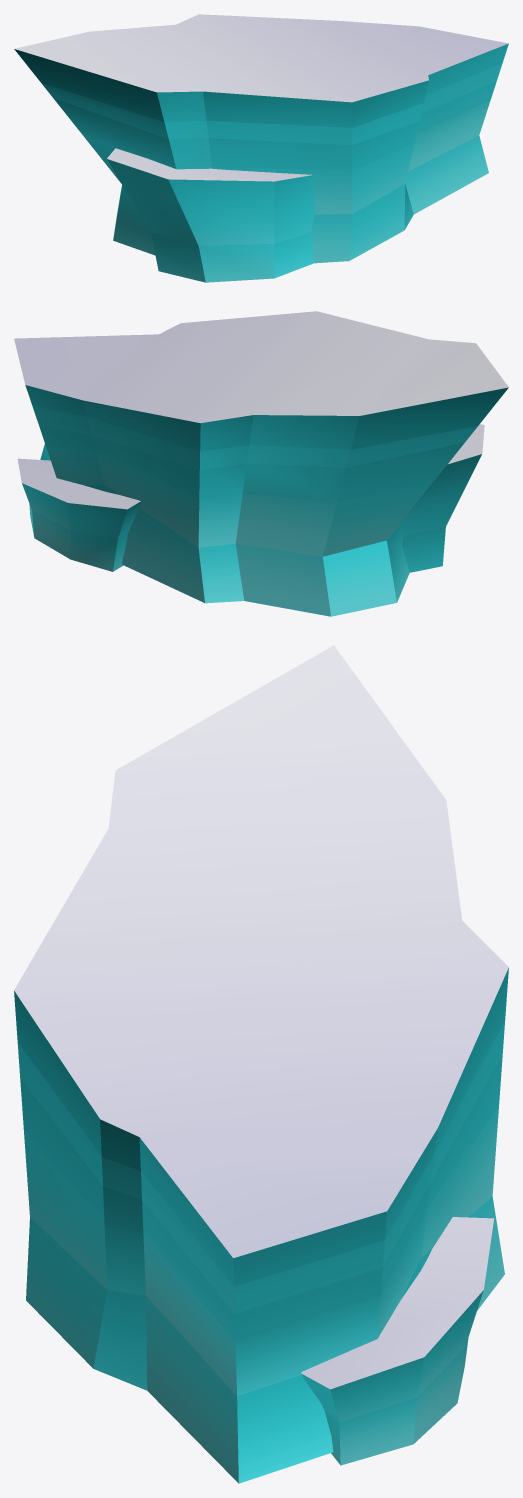
The model's file is arctic-big-cliff.obj.
The picture shows the model from 3 angles, top to bottom: view 1: azimuth 30°, elevation 25°; view 2: azimuth 150°, elevation 25°; view 3: azimuth 270°, elevation 25°; orthographic projection. The views are drawn at different scales.
Visible parts, largest first — view 1: arctic-big-cliff; view 2: arctic-big-cliff; view 3: arctic-big-cliff.
Boxes of the visible parts, box(x1,y1,x2,y2) form: arctic-big-cliff: box(14, 14, 508, 282); arctic-big-cliff: box(14, 311, 508, 616); arctic-big-cliff: box(14, 645, 508, 1483).
Size of the model in its own units: 18.98 by 8.44 by 9.02.
1 material, 1 textured.
